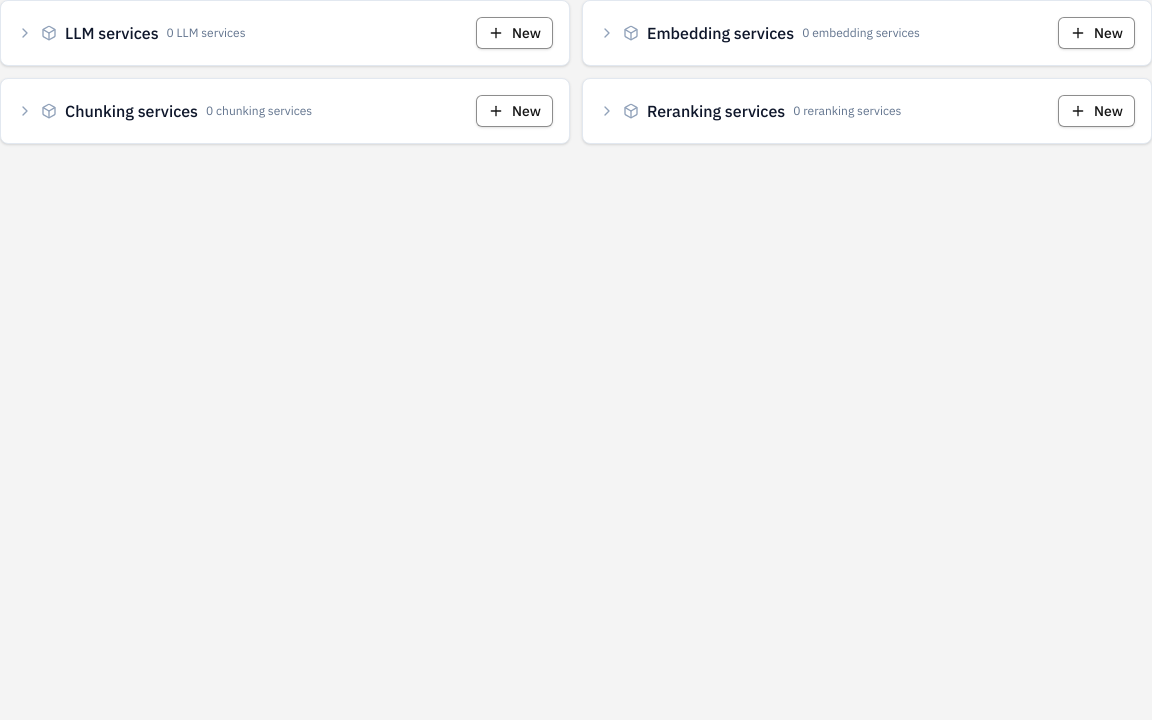
ServicesPanel › opens the reranking create dialog with its provider and model fields
What coordinates should you click on to do the following:
click the 4th button "New"
I would click on:
 (1097, 111)
Its box is [1058, 95, 1135, 127].
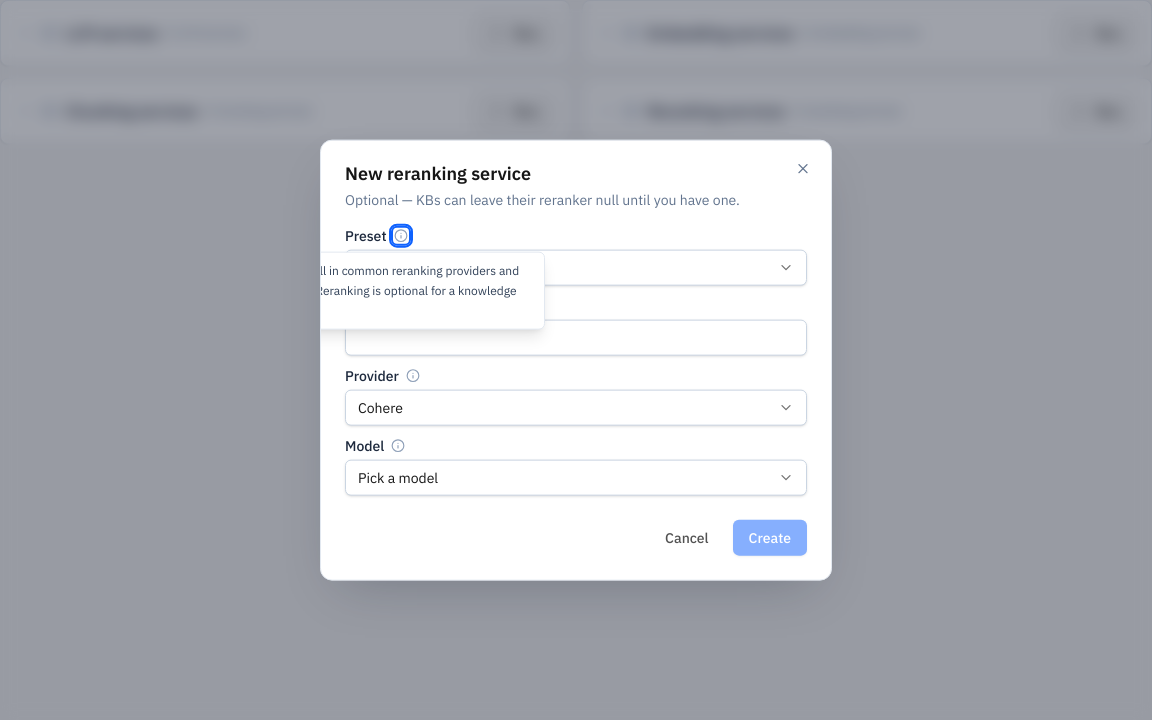
Expected: the heading "New reranking service" is shown, [345, 162, 531, 185]
Expected: the dropdown named "Provider" is shown, [345, 389, 807, 425]
Expected: the dropdown labelled "Pick a model" is shown, [345, 459, 807, 495]
